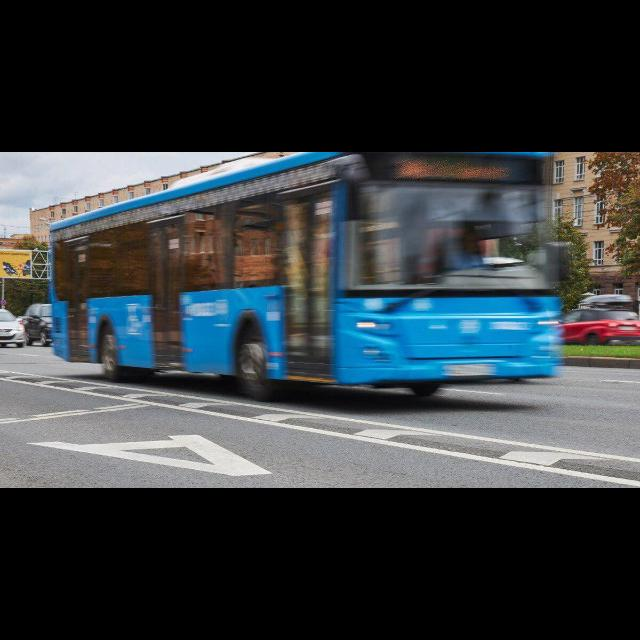road: (0, 344, 639, 487)
